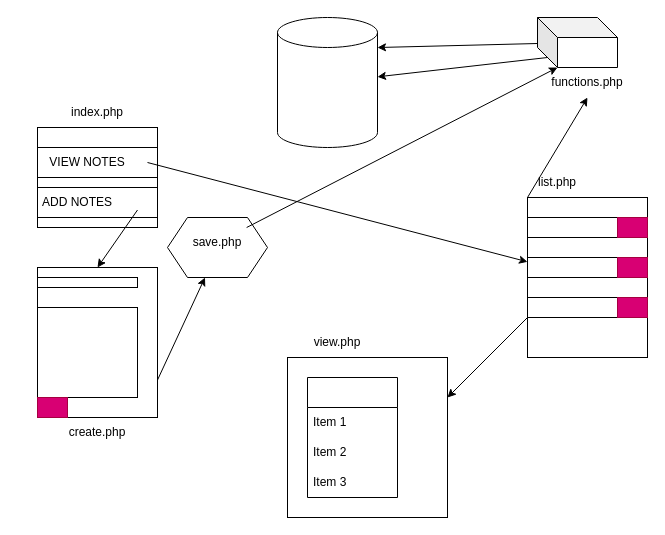
Some shapes in this 665 by 535 pixel diagram are drawn without their labels. The box of each missing label's shape, as (x1, y1, x2, y2) in pixels:
List: (306, 376, 398, 498)
storage.php: (276, 16, 378, 148)
